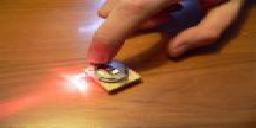LED: (62, 67, 90, 90)
